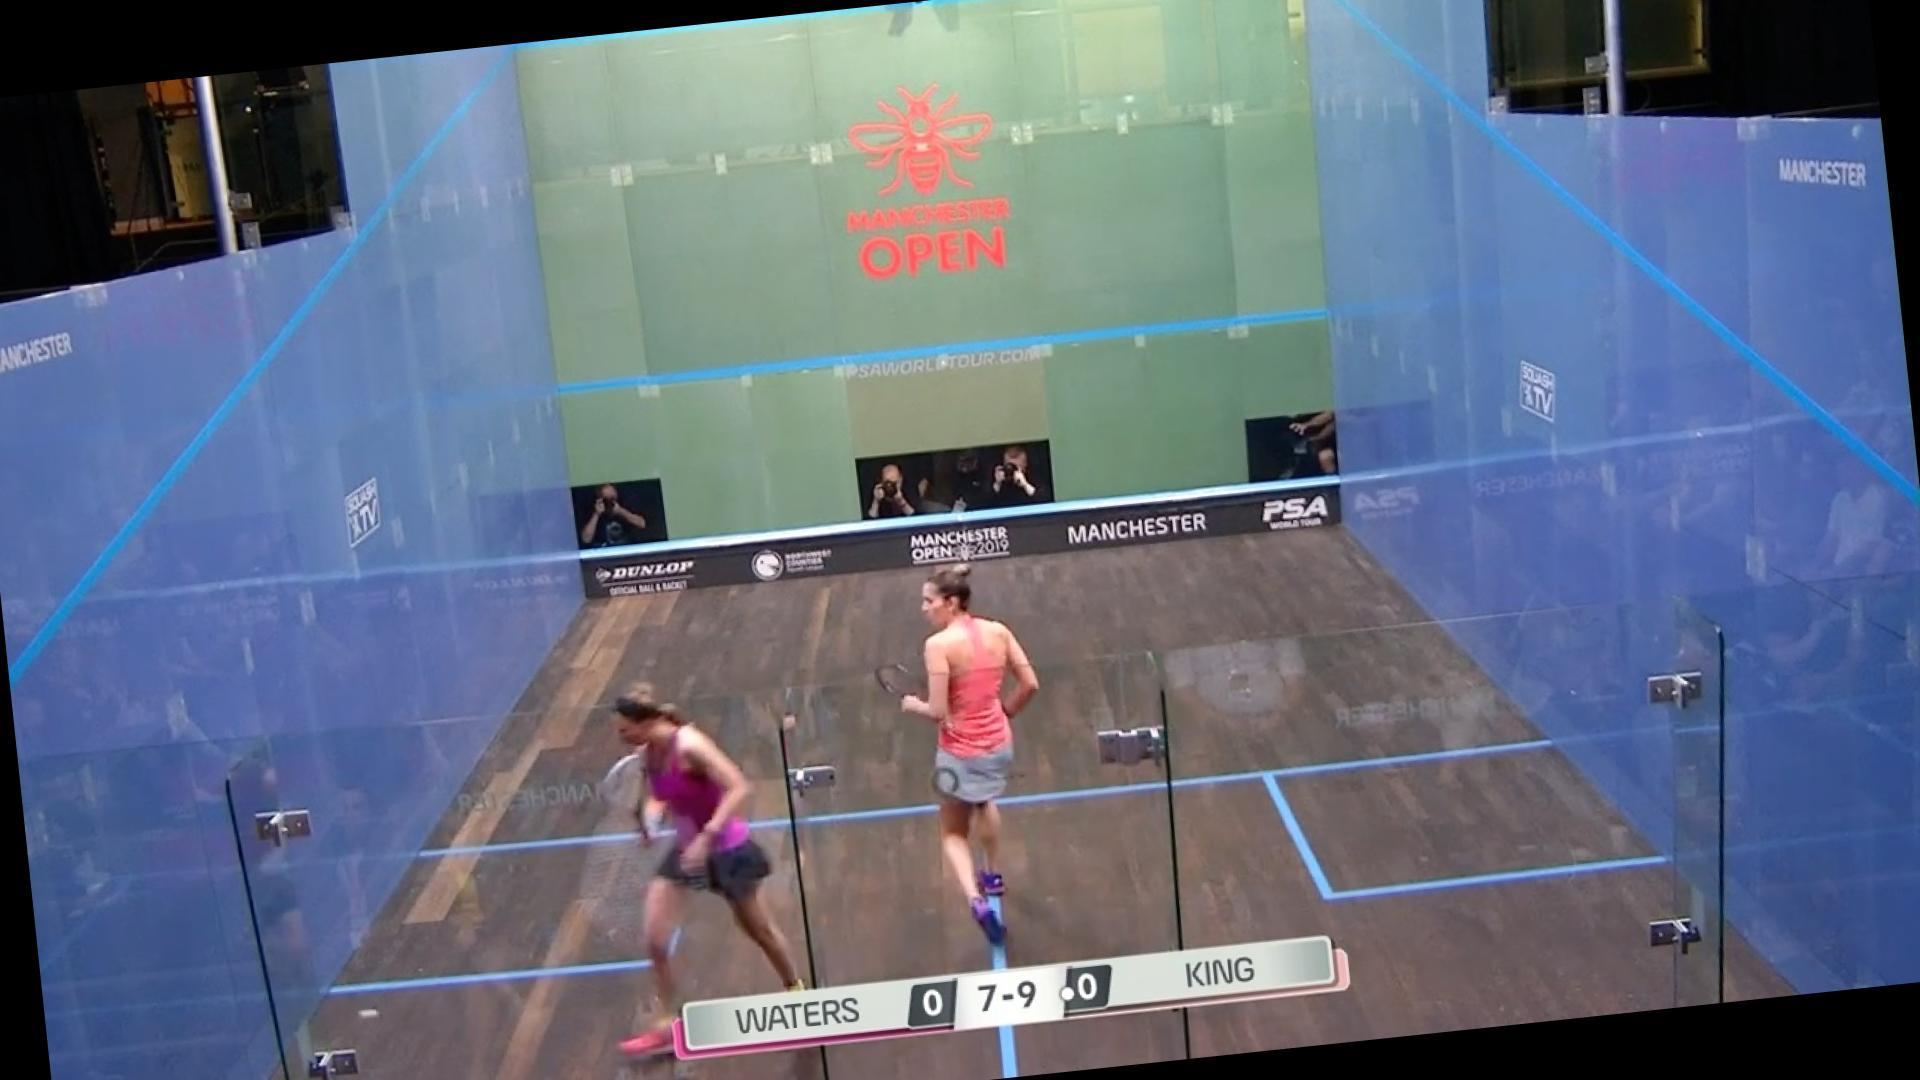Squash-Ball: (336, 989, 409, 1043)
